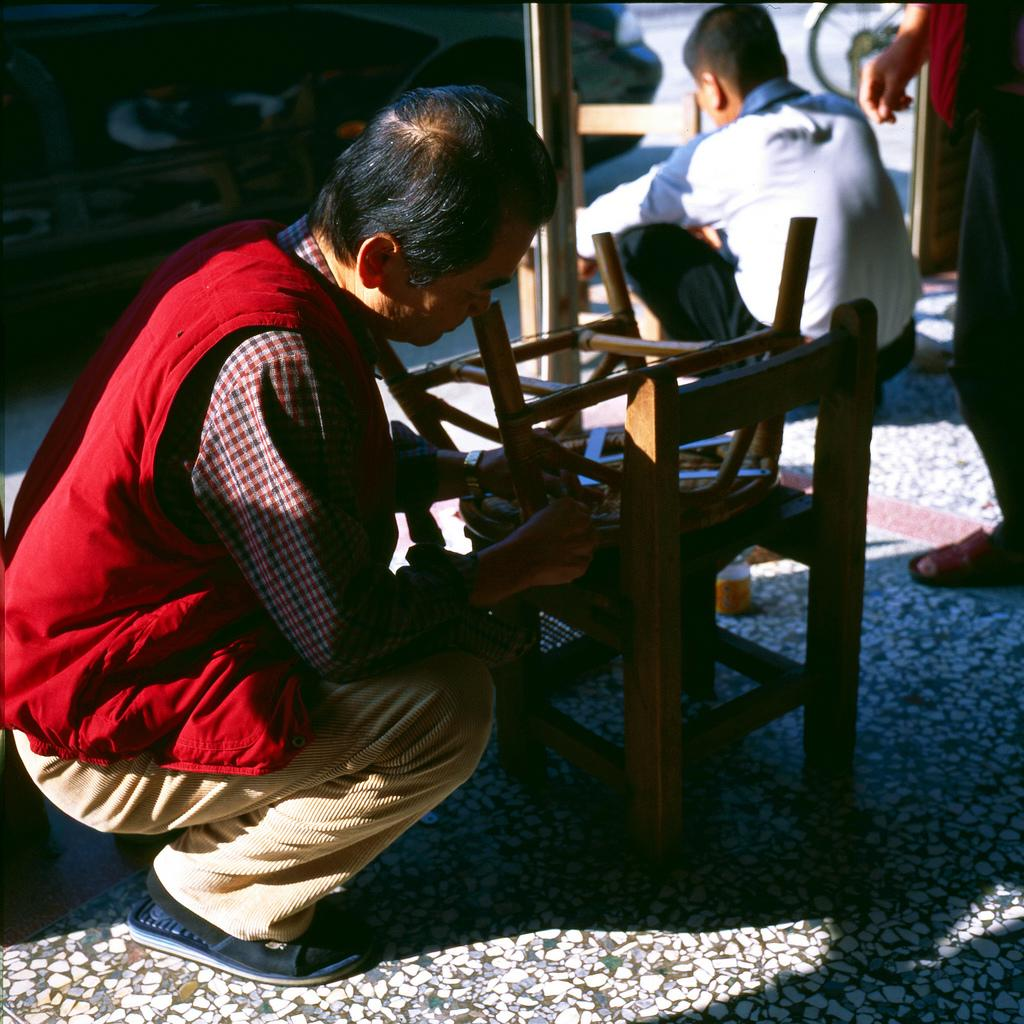hand: (491, 496, 591, 609), (434, 488, 504, 628), (34, 851, 131, 929)
